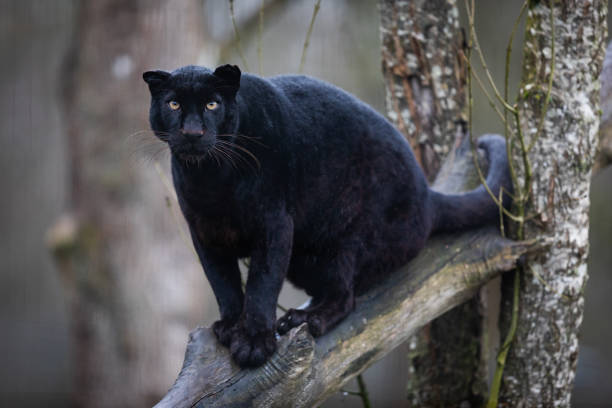panther: (131, 59, 248, 174)
